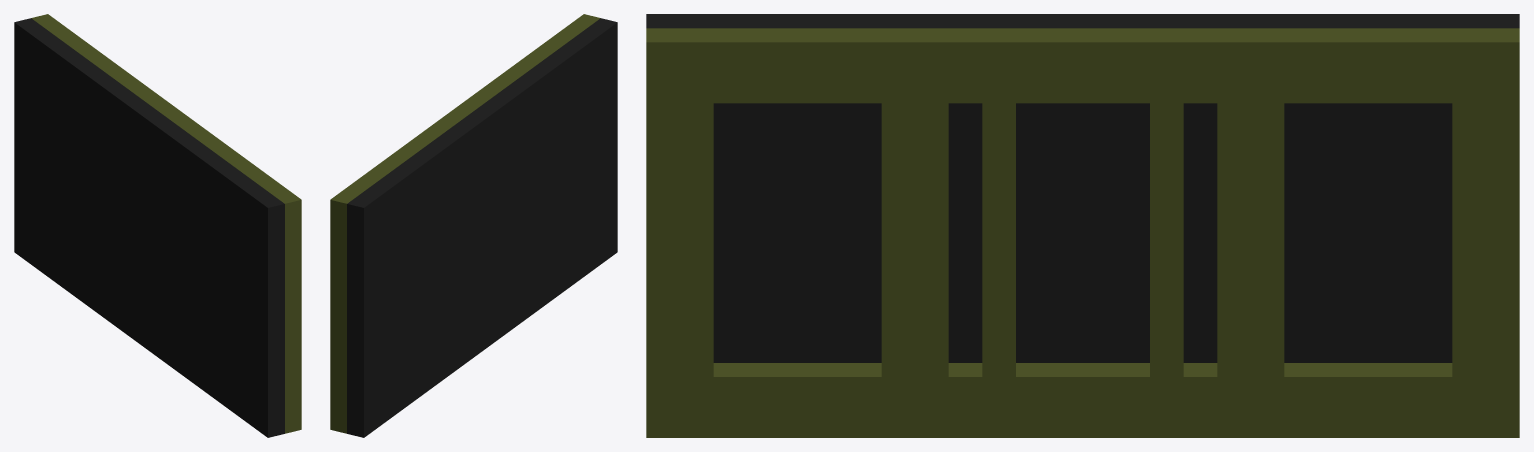
File: army_jeep_grille.glb
The picture shows the model from 3 angles, left to right: view 1: azimuth 30°, elevation 25°; view 2: azimuth 150°, elevation 25°; view 3: azimuth 270°, elevation 25°; orthographic projection. The views are drawn at different scales.
Visible parts, largest first — view 1: body:compound; view 2: body:compound; view 3: body:compound.
Boxes of the visible parts, bbox=[...] form: body:compound: bbox=[14, 14, 301, 437]; body:compound: bbox=[330, 14, 617, 437]; body:compound: bbox=[646, 14, 1519, 437].
Bounding box in the file's own units: 0.0625 × 0.4062 × 0.8125.
